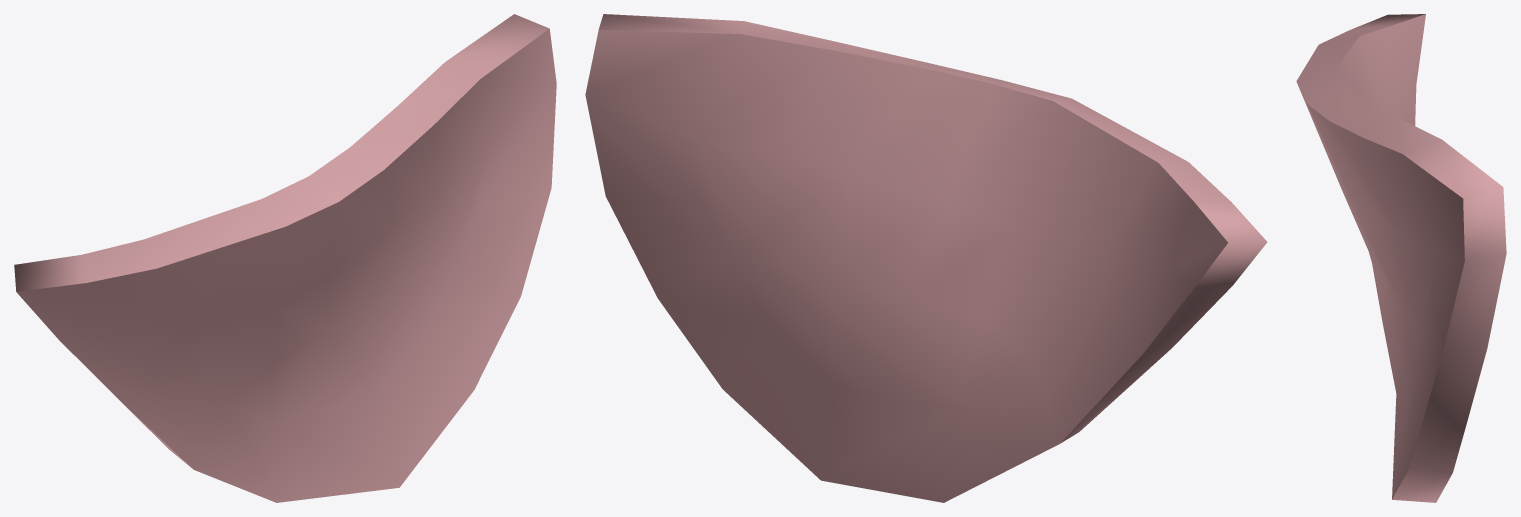
3 renders of one model, left to right at view 1: azimuth 30°, elevation 25°; view 2: azimuth 150°, elevation 25°; view 3: azimuth 270°, elevation 25°, orthographic. The views are drawn at different scales.
Visible parts, largest first — view 1: ZA_a421fa0be0250a4d; view 2: ZA_a421fa0be0250a4d; view 3: ZA_a421fa0be0250a4d.
Boxes of the visible parts, x1,y1,x2,y2 form: ZA_a421fa0be0250a4d: (14, 14, 556, 502); ZA_a421fa0be0250a4d: (585, 14, 1267, 502); ZA_a421fa0be0250a4d: (1296, 14, 1506, 502).
Size of the model in its own units: 0.0457 by 0.0298 by 0.0142.
